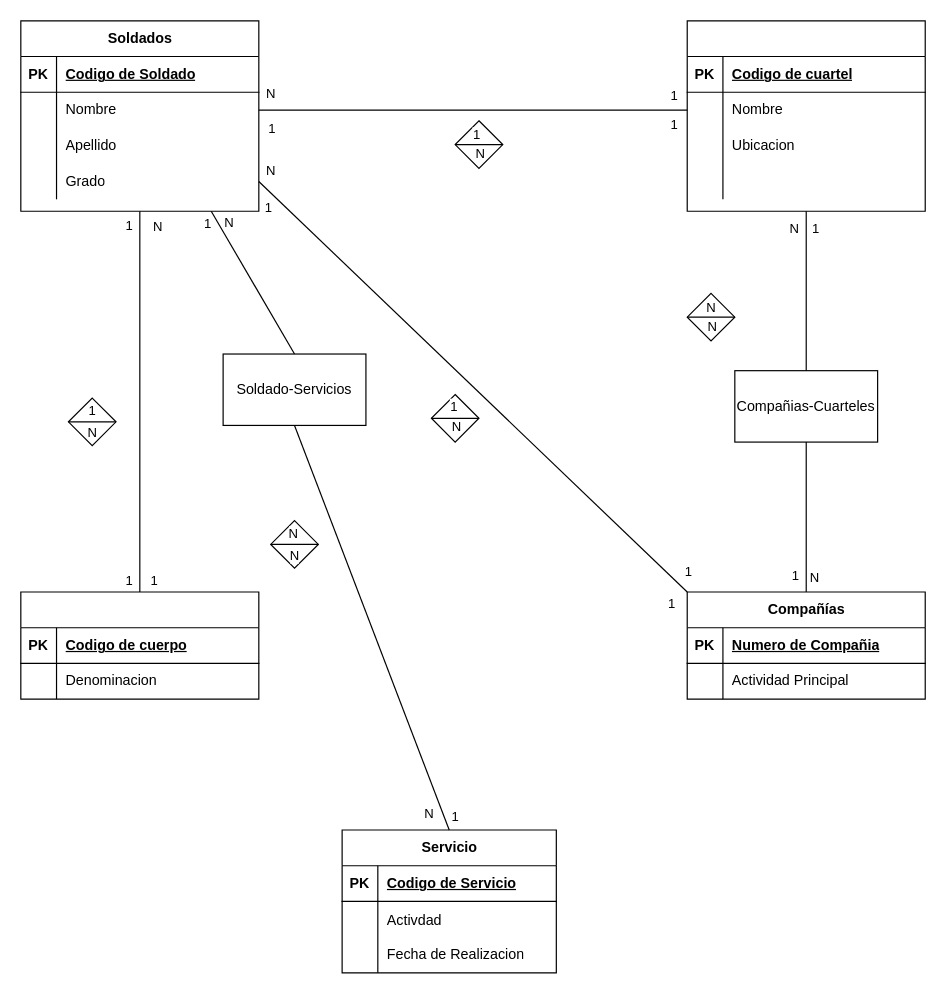
This 946x994 diagram has some shape labels left out. Each missing label, with the box of its shape:
Cuarteles: (686, 20, 925, 211)
Cuerpos del ejercito: (20, 591, 259, 699)
